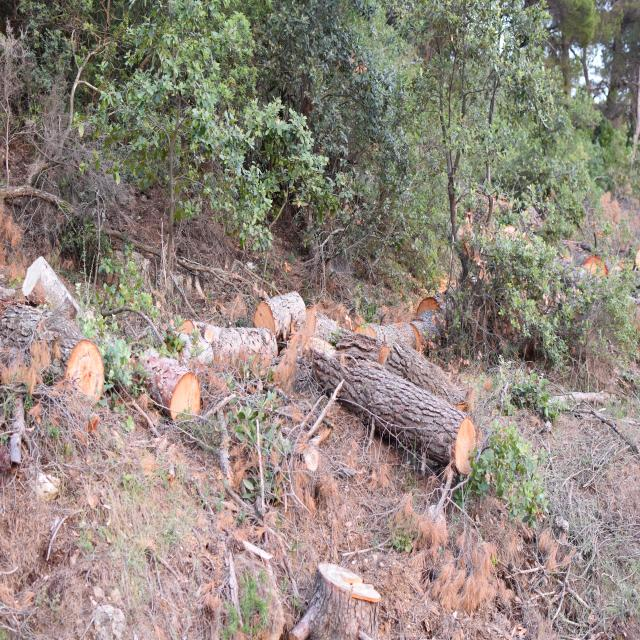restos de madeira: (260, 320, 434, 481), (0, 251, 99, 458), (498, 390, 640, 464), (1, 310, 107, 408), (198, 255, 356, 313), (291, 562, 380, 639), (103, 229, 218, 281), (424, 395, 478, 480), (240, 536, 285, 634), (138, 366, 208, 426), (6, 188, 60, 257), (63, 46, 99, 139), (205, 326, 270, 377), (148, 319, 214, 365), (239, 380, 318, 417), (16, 132, 71, 181), (99, 307, 172, 341), (254, 293, 308, 337), (119, 397, 161, 437), (221, 479, 259, 520), (270, 479, 311, 517), (216, 408, 232, 499), (556, 582, 594, 620), (226, 546, 242, 625), (409, 314, 440, 354), (8, 397, 26, 464), (544, 391, 612, 406), (0, 282, 27, 310), (242, 540, 274, 561), (516, 557, 549, 577), (209, 392, 233, 418), (96, 198, 103, 282), (4, 104, 10, 186)
